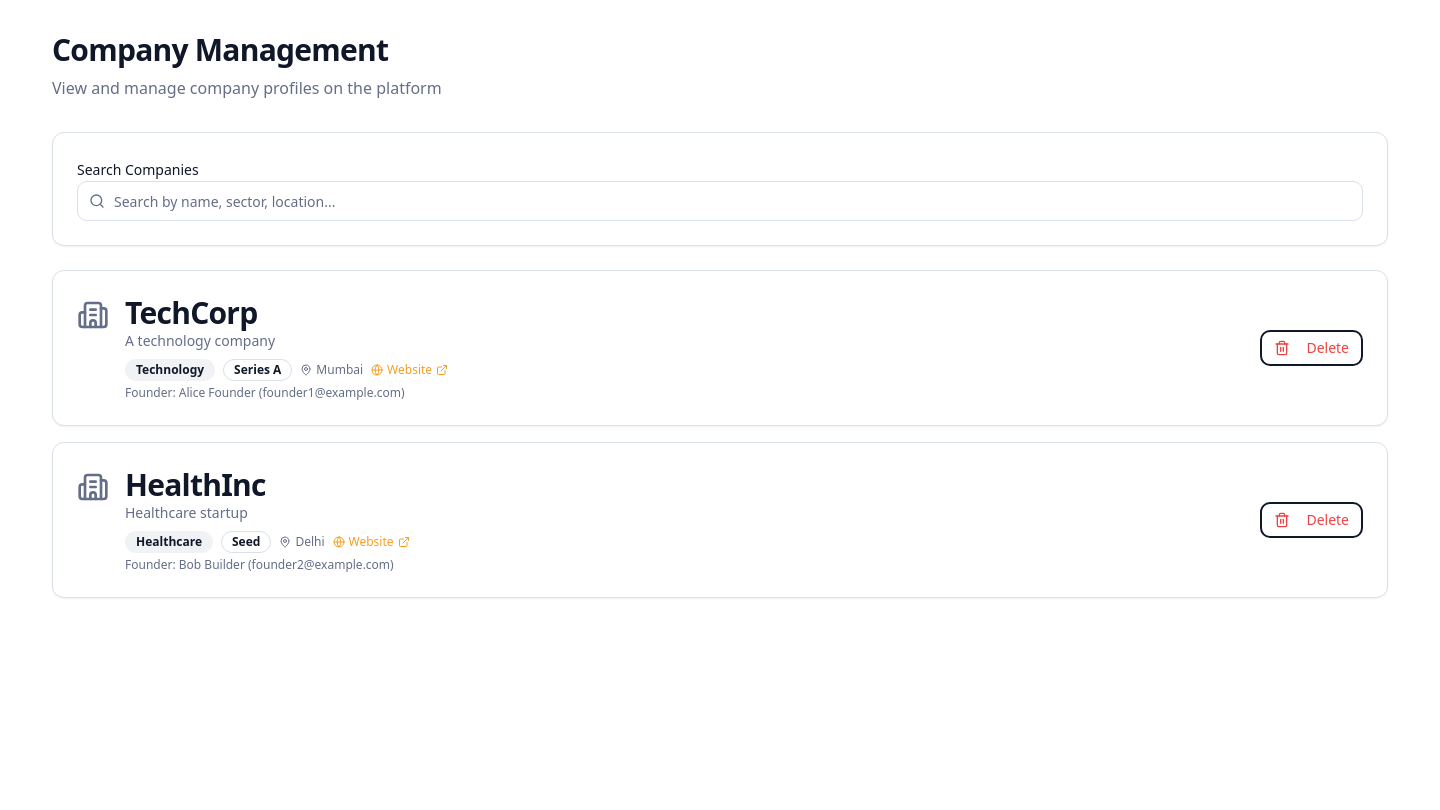
US-ADMIN-CRUD-004: Company Management Page › Delete Company › should show confirmation dialog before deletion
Check: the heading "TechCorp" is shown, box [125,292,257,333]
Click the button "Delete" in the row of "Mumbai" at [1312, 348], box [1260,330,1363,366]
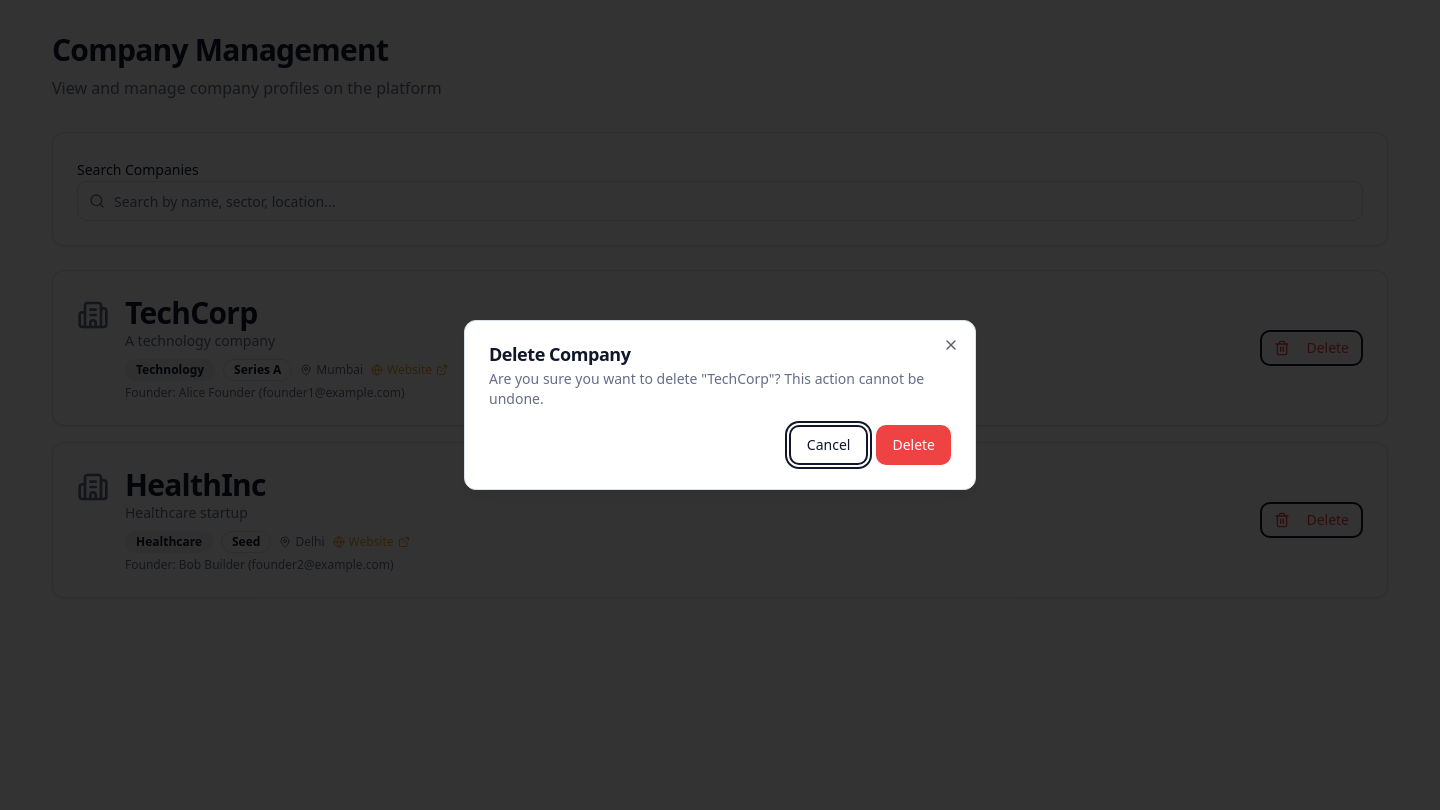
Check: the text "Are you sure" is shown, box [489,369,707,388]
